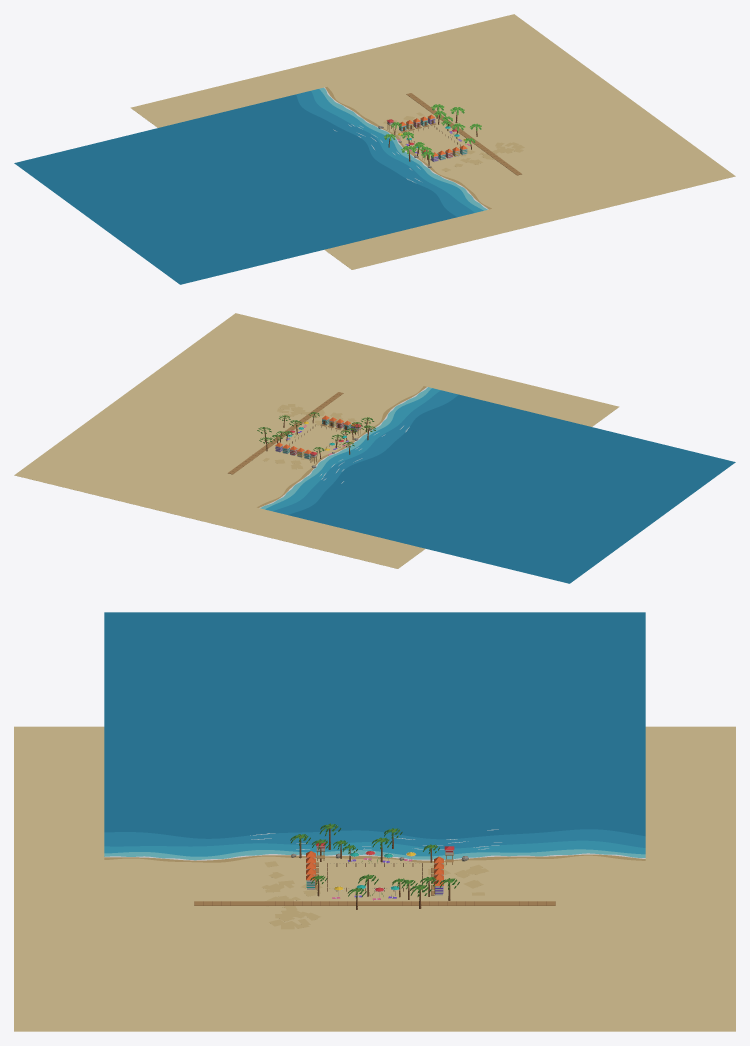
File: beach.glb
3 views of the same model, one above another, from view 1: azimuth 30°, elevation 25°; view 2: azimuth 150°, elevation 25°; view 3: azimuth 270°, elevation 25° (orthographic). The views are drawn at different scales.
Parts seen in each view (by area): view 1: beach; view 2: beach; view 3: beach.
Part boxes in pixels (x1,y1,x2,y2): beach: (14, 14, 735, 284); beach: (14, 313, 735, 583); beach: (14, 612, 735, 1031).
Size of the model in its own units: 220 by 5.97 by 160.
